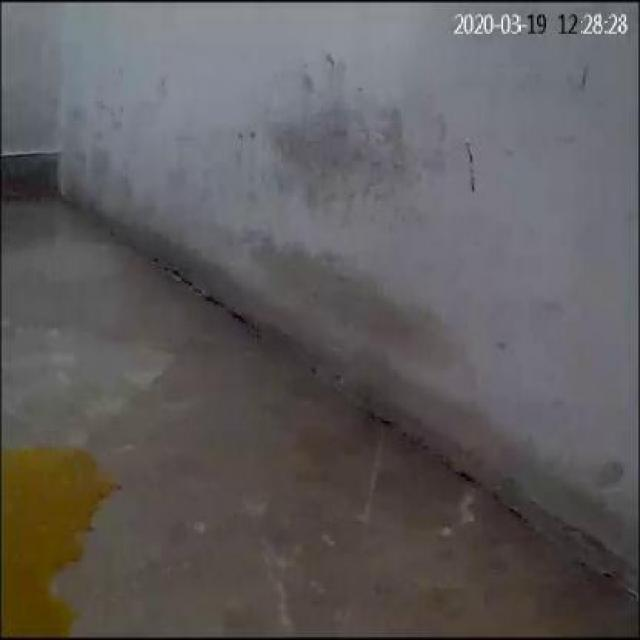spill: (2, 441, 112, 628)
